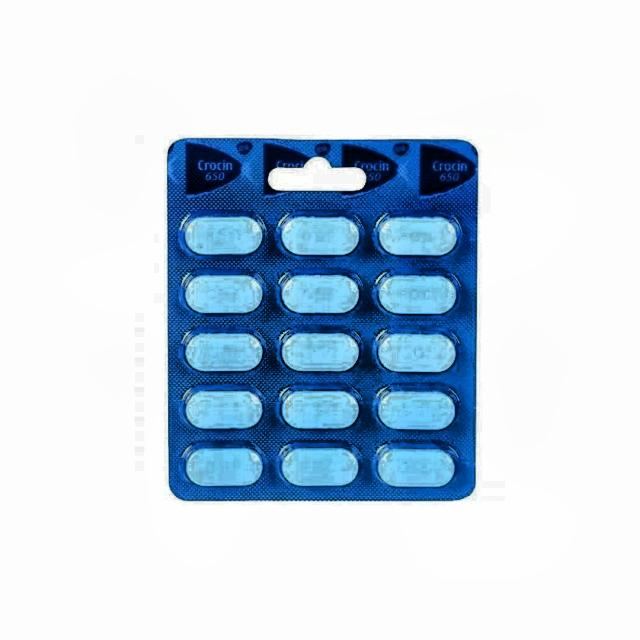Crocin: (169, 141, 471, 502)
